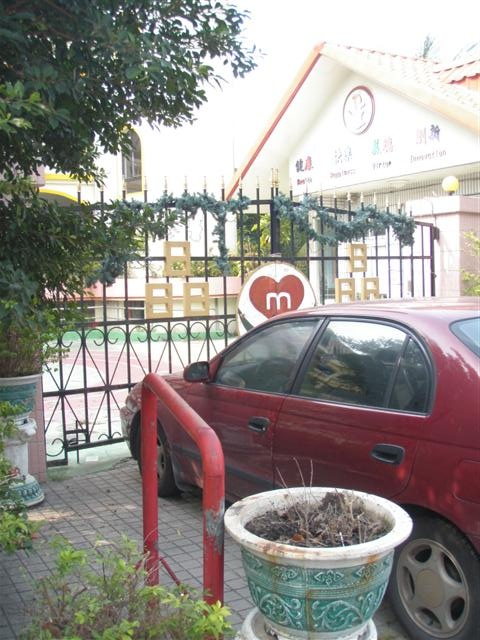plate: (238, 605, 379, 639)
